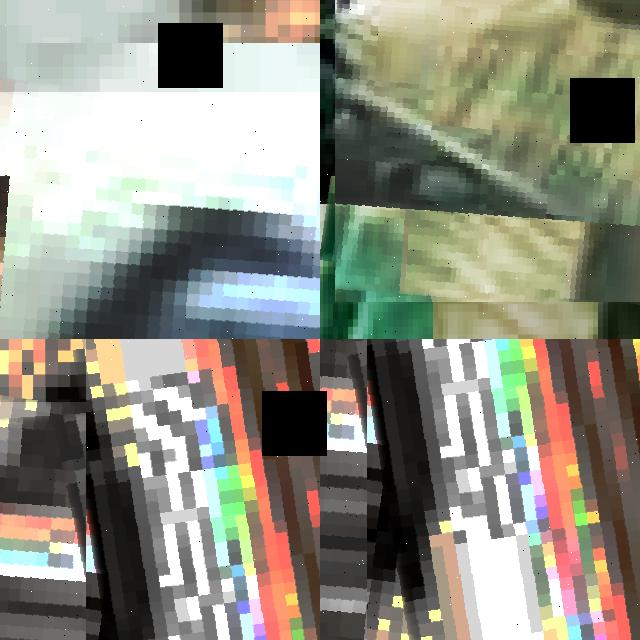arms: (335, 0, 640, 302), (367, 339, 640, 640), (0, 92, 320, 339), (320, 339, 562, 640), (86, 339, 320, 640), (0, 402, 281, 640)
